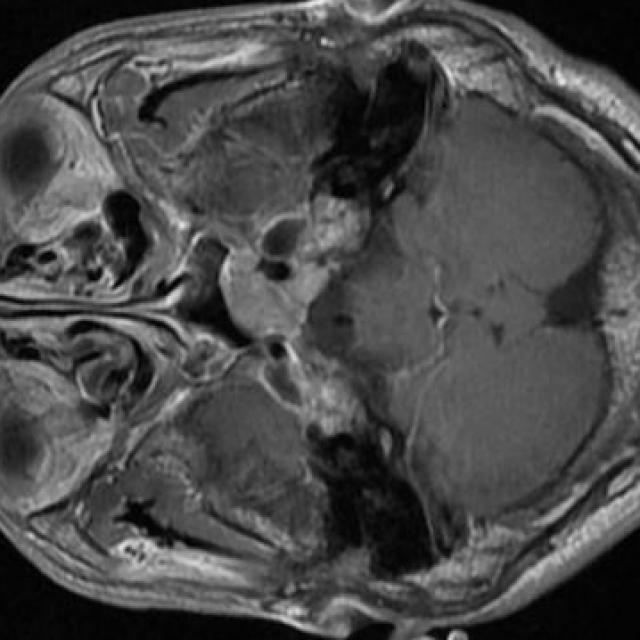pituitary: (217, 260, 332, 339)
